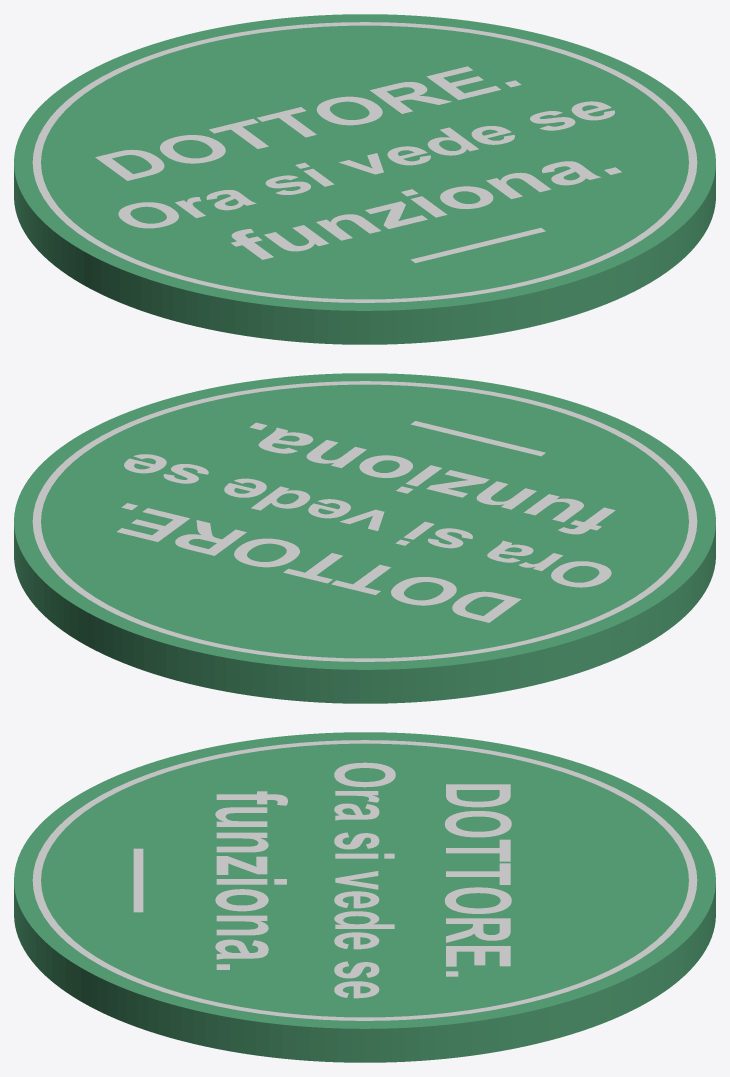
Rendered from sottobicchiere-dottore-ora-si-vede.glb.
3 renders of one model, top to bottom at view 1: azimuth 30°, elevation 25°; view 2: azimuth 150°, elevation 25°; view 3: azimuth 270°, elevation 25°, orthographic.
Parts seen in each view (by area): view 1: coaster_base, coaster_ink; view 2: coaster_base, coaster_ink; view 3: coaster_base, coaster_ink.
Boxes of the visible parts, box(x1,y1,x2,y2) form: coaster_base: box(14, 14, 715, 344); coaster_ink: box(32, 22, 697, 302); coaster_base: box(14, 373, 715, 703); coaster_ink: box(32, 381, 697, 661); coaster_base: box(14, 732, 715, 1062); coaster_ink: box(32, 740, 697, 1020).
Size of the model in its own units: 0.075 by 0.004 by 0.075.
